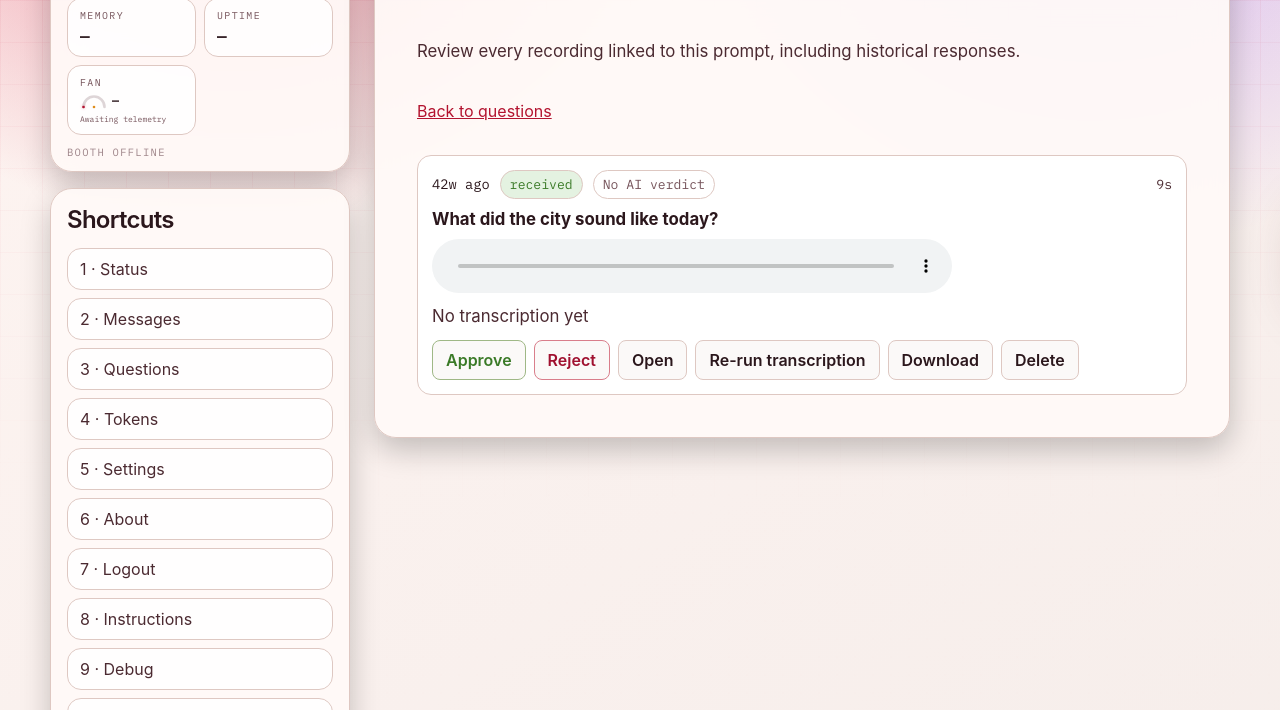
Test: Question answers feature › refreshes an answer immediately after retranscription
(page scrolled)
Click the button "Re-run transcription".
click(788, 360)  # box [696,340,880,380]
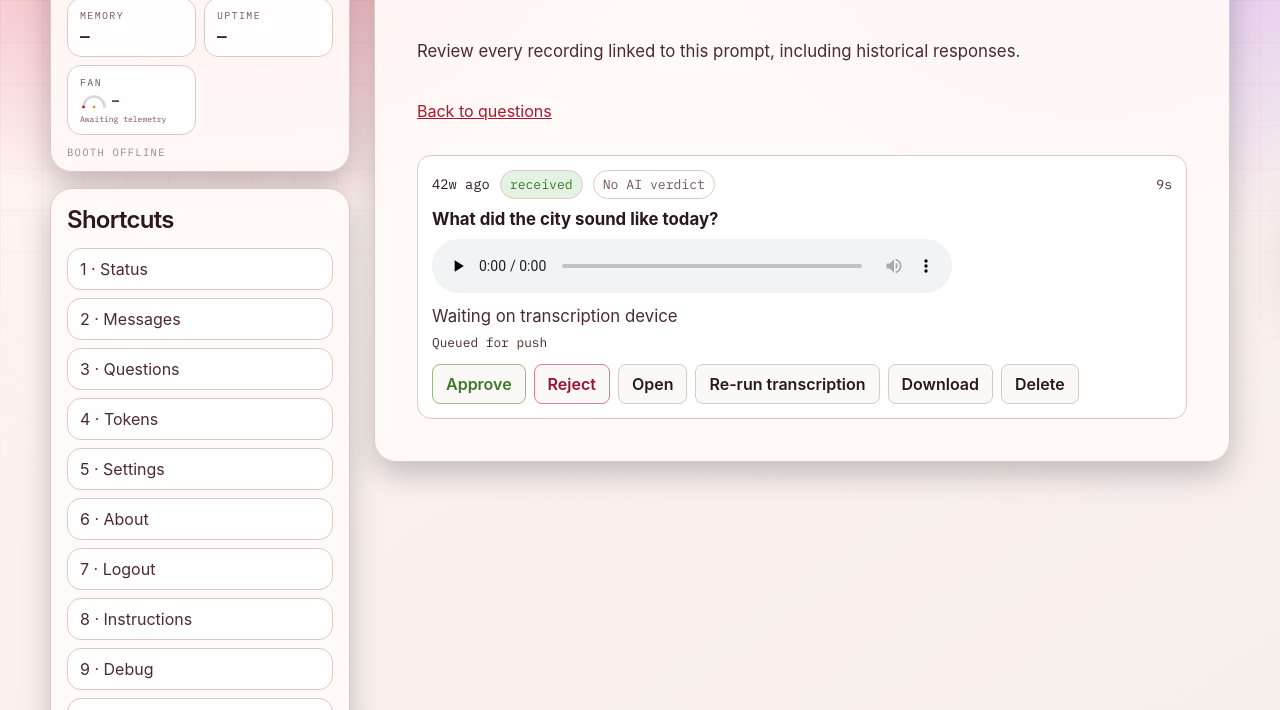
Expected: the text "Waiting on transcription device" is shown, [432,306,678,326]
